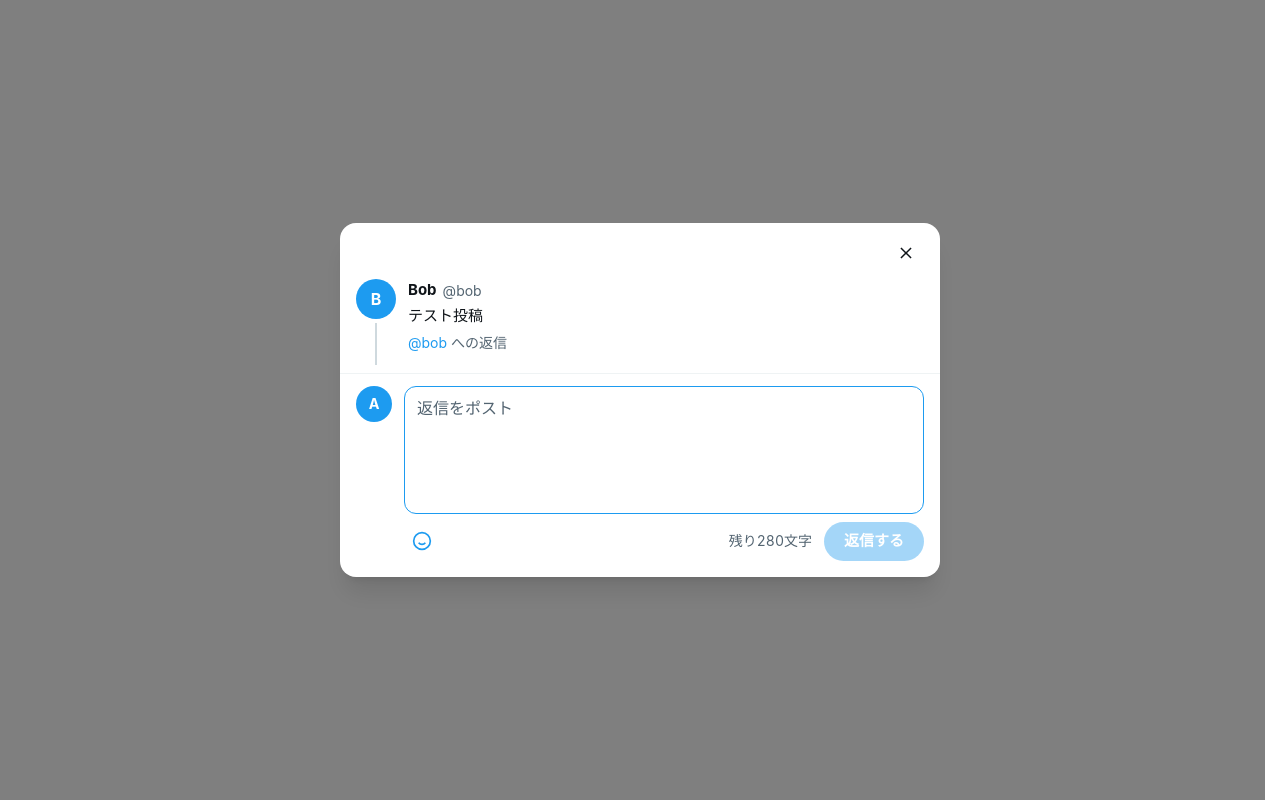
CommentModal › APIエラー時にトーストが表示される
Type "テスト" into the text box with placeholder "返信をポスト" at (664, 447), box left=417, top=395, right=911, bottom=499
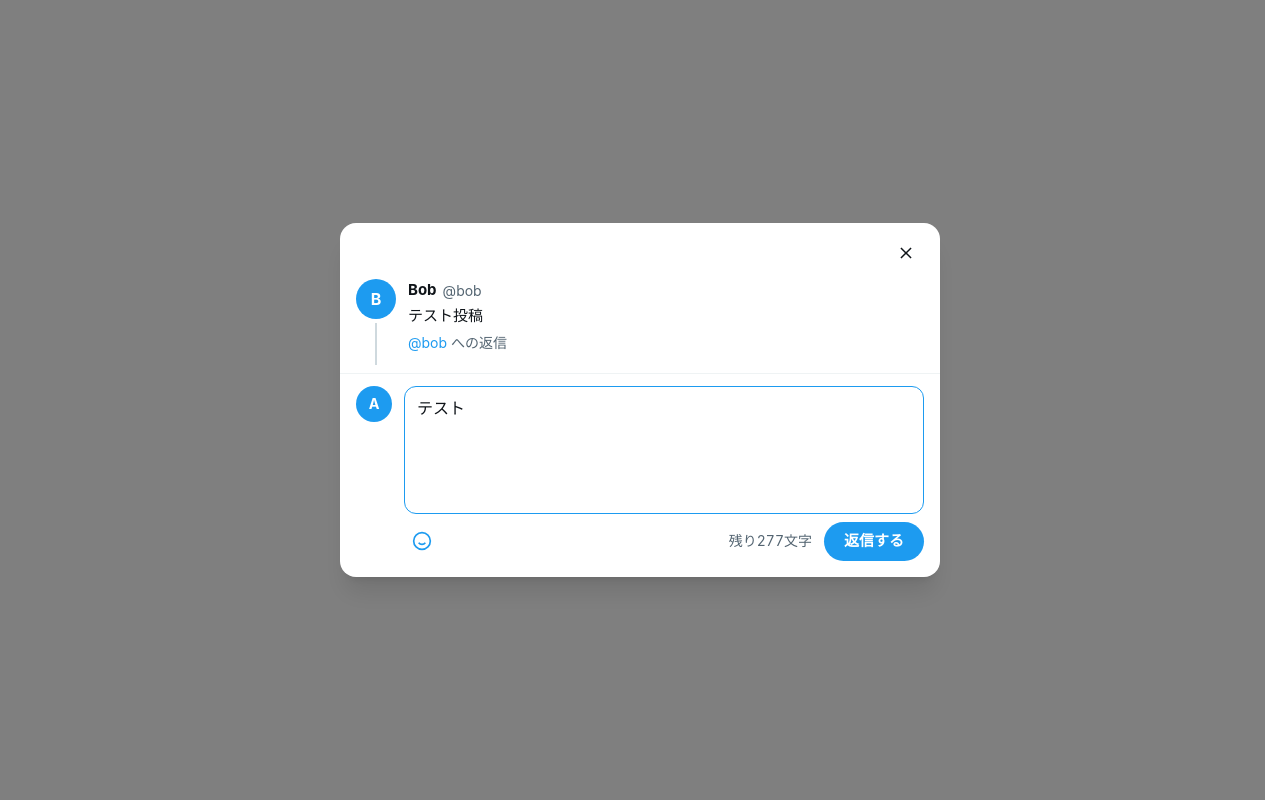
Click the button "返信する" at (874, 541), box left=824, top=522, right=924, bottom=561
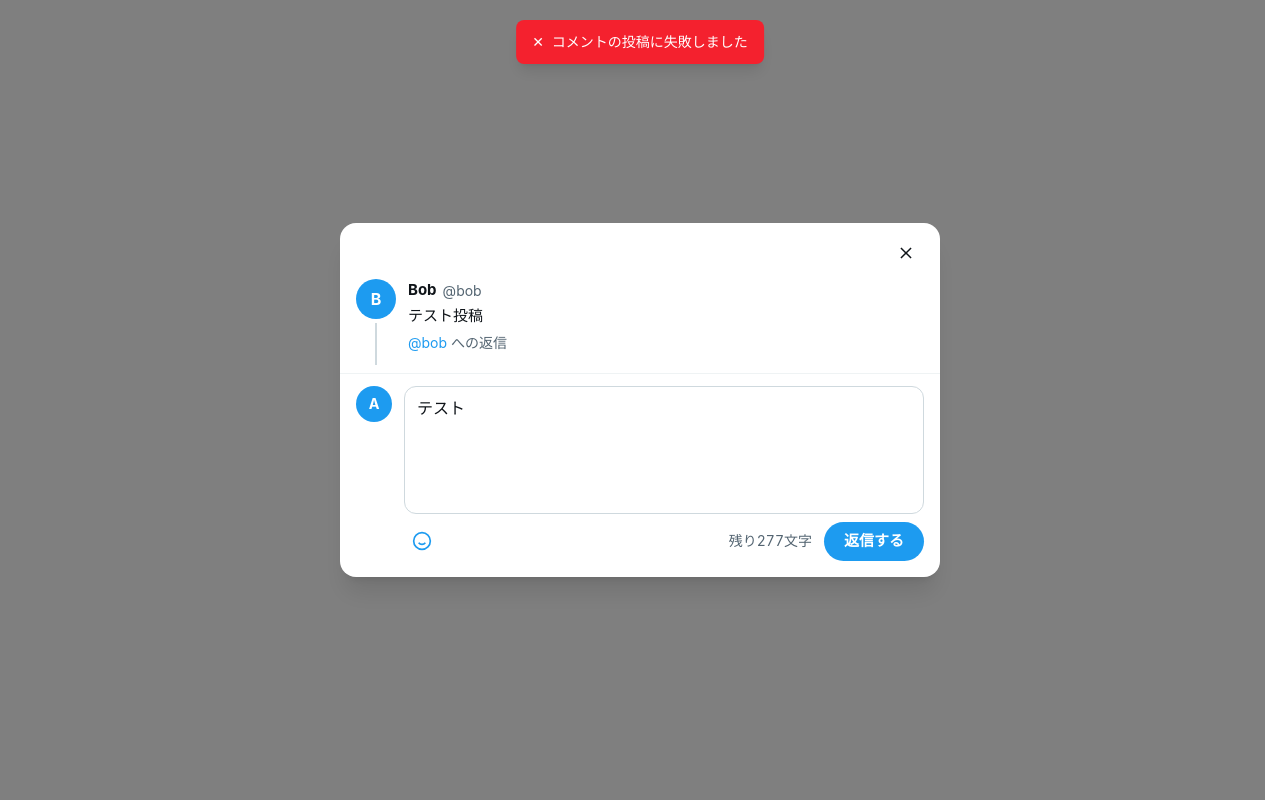
expect the text "コメントの投稿に失敗しました" is shown: met, box left=552, top=32, right=748, bottom=52
